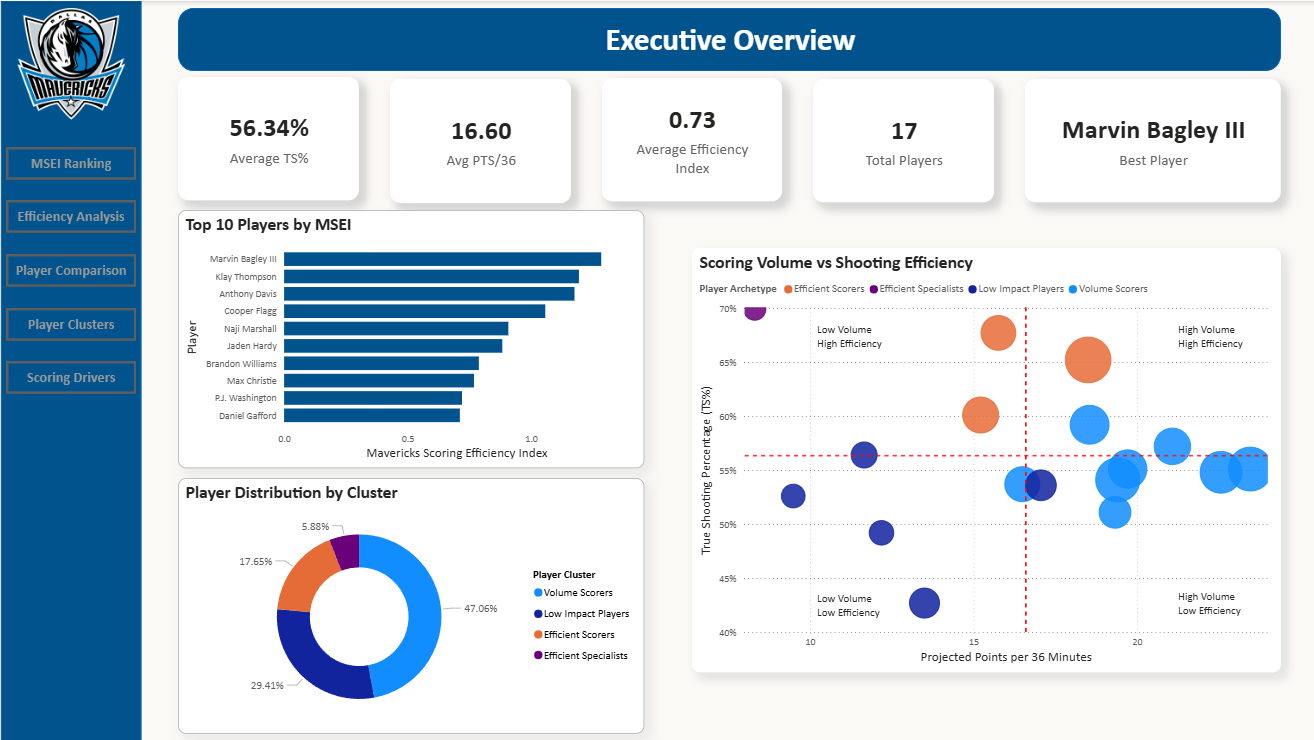

What the dashboard file says about the page in this screenshot:
{"tool":"powerbi","page":{"name":"Overview","canvas":[1600,900],"ordinal":0},"visuals":[{"type":"shape","box":[0,0,170.7,900],"z":0},{"type":"image","box":[5.5,8.9,158.5,136.3],"z":1000},{"type":"actionButton","box":[5.5,177.3,158.5,39.9],"z":2000},{"type":"actionButton","box":[5.5,242.5,158.5,39.9],"z":3000},{"type":"actionButton","box":[5.5,307.6,158.5,39.9],"z":4000},{"type":"actionButton","box":[5.5,372.7,158.5,39.9],"z":5000},{"type":"actionButton","box":[5.5,437.8,158.5,39.9],"z":6000},{"type":"shape","box":[215.2,8.5,1341,76.6],"z":7000},{"type":"textbox","box":[227.2,17.7,1319,59.9],"z":8000},{"type":"cardVisual","fields":{"Data":["mavericks_scoring_efficiency_dashboard.Avg TS%"]},"box":[215.2,92.4,220.1,149.5],"z":9000},{"type":"cardVisual","fields":{"Data":["mavericks_scoring_efficiency_dashboard.Avg PTS36"]},"box":[472.9,94.8,220.1,150.8],"z":10000},{"type":"cardVisual","fields":{"Data":["mavericks_scoring_efficiency_dashboard.Avg MSEI"]},"box":[730.7,93.9,218.8,150],"z":11000},{"type":"cardVisual","fields":{"Data":["mavericks_scoring_efficiency_dashboard.Best Player"]},"box":[1245,94.8,311.2,149.5],"z":12000},{"type":"cardVisual","fields":{"Data":["mavericks_scoring_efficiency_dashboard.Total Players"]},"box":[987.2,94.2,220.1,150],"z":13000},{"type":"clusteredBarChart","title":"Top 10 Players by MSEI","fields":{"Category":["mavericks_scoring_efficiency_dashboard.Player"],"Y":["mavericks_scoring_efficiency_dashboard.Avg MSEI"]},"box":[215.2,254.1,566.6,313.7],"z":14000},{"type":"scatterChart","title":"Scoring Volume vs Shooting Efficiency","fields":{"X":["Avg(mavericks_scoring_efficiency_dashboard.Projected_PTS_36)"],"Y":["Avg(mavericks_scoring_efficiency_dashboard.TS%)"],"Size":["Sum(mavericks_scoring_efficiency_dashboard.MSEI)"],"Series":["mavericks_scoring_efficiency_dashboard.Cluster_Name"],"Category":["mavericks_scoring_efficiency_dashboard.Player"]},"box":[840.1,300.3,716.1,515.5],"z":15000},{"type":"donutChart","title":"Player Distribution by Cluster","fields":{"Category":["mavericks_scoring_efficiency_dashboard.Cluster_Name"],"Y":["CountNonNull(mavericks_scoring_efficiency_dashboard.Player)"]},"box":[215.2,579.9,566.6,311.2],"z":16000},{"type":"textbox","box":[1426.1,384.2,90,52.3],"z":17000},{"type":"textbox","box":[1426.1,708.8,109.4,52.3],"z":18000},{"type":"textbox","box":[987.2,384.2,99.7,52.3],"z":19000},{"type":"textbox","box":[987.2,711.2,88.8,48.6],"z":20000}]}

Visuals, with their boxes in screenshot pixels (x1, y1, x2, y2), scaled from the page's 1600x900 canvas onto the 1314x740 screenshot:
shape: l=0, t=0, r=140, b=739
image: l=5, t=7, r=135, b=119
actionButton: l=5, t=146, r=135, b=179
actionButton: l=5, t=199, r=135, b=232
actionButton: l=5, t=253, r=135, b=286
actionButton: l=5, t=306, r=135, b=339
actionButton: l=5, t=360, r=135, b=393
shape: l=177, t=7, r=1278, b=70
textbox: l=187, t=15, r=1270, b=64
cardVisual - mavericks_scoring_efficiency_dashboard.Avg TS%: l=177, t=76, r=357, b=199
cardVisual - mavericks_scoring_efficiency_dashboard.Avg PTS36: l=388, t=78, r=569, b=202
cardVisual - mavericks_scoring_efficiency_dashboard.Avg MSEI: l=600, t=77, r=780, b=201
cardVisual - mavericks_scoring_efficiency_dashboard.Best Player: l=1022, t=78, r=1278, b=201
cardVisual - mavericks_scoring_efficiency_dashboard.Total Players: l=811, t=77, r=991, b=201
"Top 10 Players by MSEI" clusteredBarChart: l=177, t=209, r=642, b=467
"Scoring Volume vs Shooting Efficiency" scatterChart: l=690, t=247, r=1278, b=671
"Player Distribution by Cluster" donutChart: l=177, t=477, r=642, b=733
textbox: l=1171, t=316, r=1245, b=359
textbox: l=1171, t=583, r=1261, b=626
textbox: l=811, t=316, r=893, b=359
textbox: l=811, t=585, r=884, b=625
